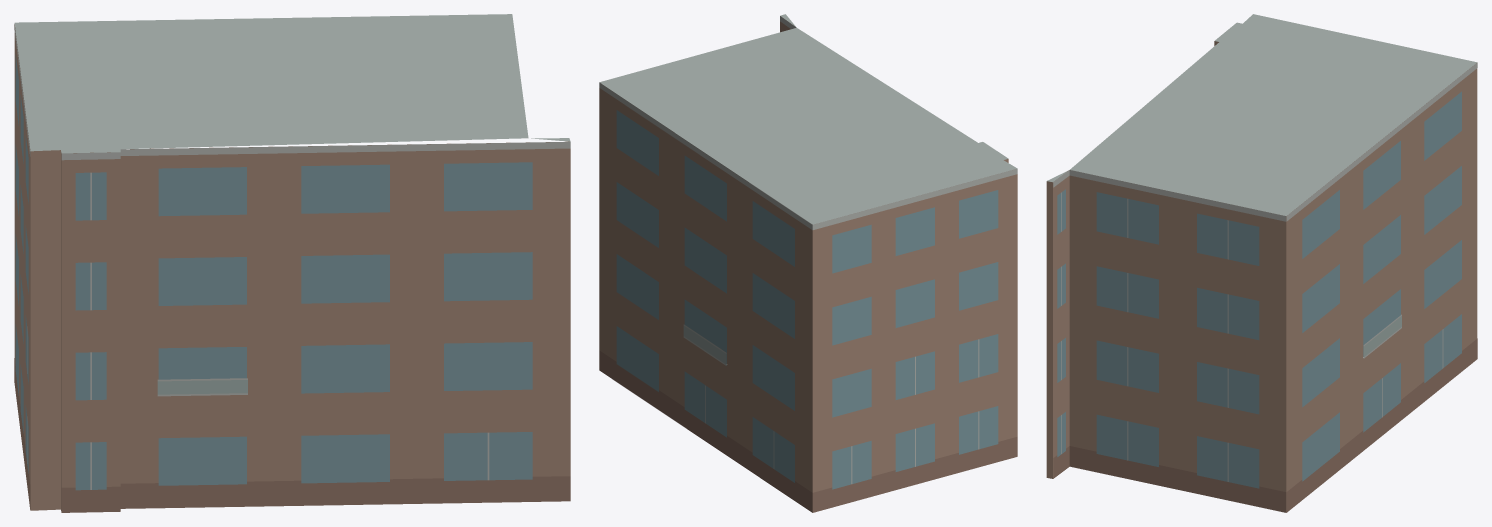
Rendered from survey-upis-32659030.glb.
3 renders of one model, left to right at view 1: azimuth 30°, elevation 25°; view 2: azimuth 150°, elevation 25°; view 3: azimuth 270°, elevation 25°, orthographic. The views are drawn at different scales.
Parts seen in each view (by area): view 1: survey-upis-32659030.tmp; view 2: survey-upis-32659030.tmp; view 3: survey-upis-32659030.tmp.
Boxes of the visible parts, x1,y1,x2,y2 form: survey-upis-32659030.tmp: (14,14,570,512); survey-upis-32659030.tmp: (599,14,1017,512); survey-upis-32659030.tmp: (1046,14,1477,512).
Bounding box in the file's own units: 18.71 × 12.8 × 16.86.
